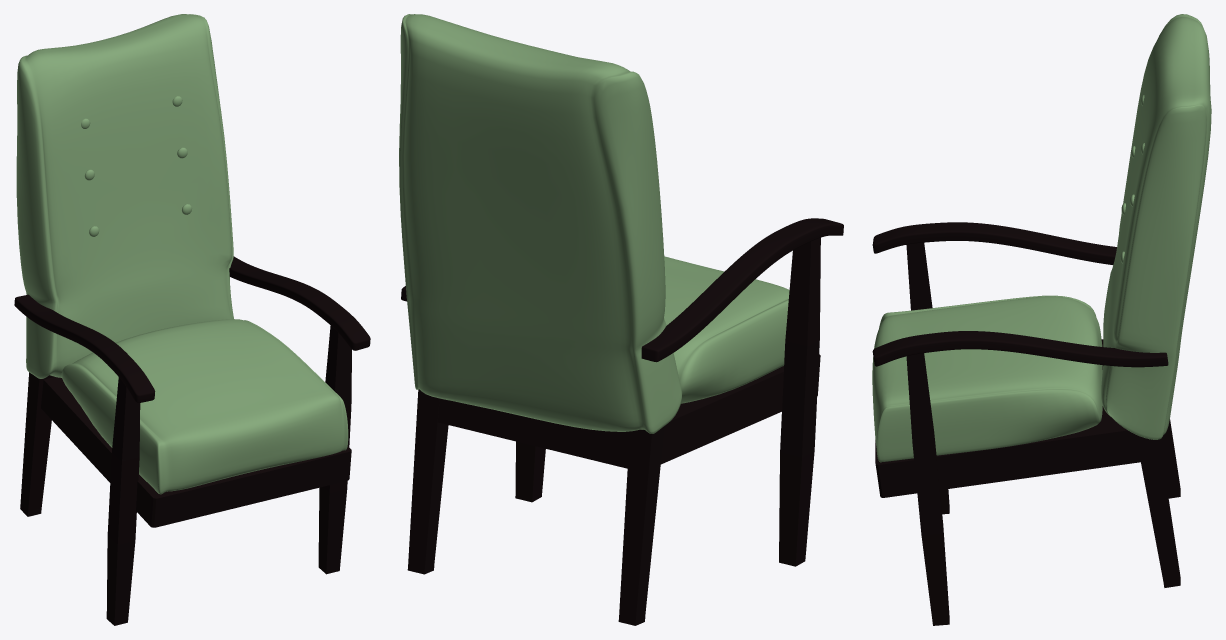
Rendered from Armchair_backup.dae.
3 renders of one model, left to right at view 1: azimuth 30°, elevation 25°; view 2: azimuth 150°, elevation 25°; view 3: azimuth 270°, elevation 25°, orthographic. The views are drawn at different scales.
Parts seen in each view (by area): view 1: ArmchairModel; view 2: ArmchairModel; view 3: ArmchairModel.
Boxes of the visible parts, x1,y1,x2,y2 form: ArmchairModel: (14,14,370,625); ArmchairModel: (399,14,843,625); ArmchairModel: (872,14,1211,625).
Bounding box in the file's own units: 0.7529 × 1.46 × 0.8797.
